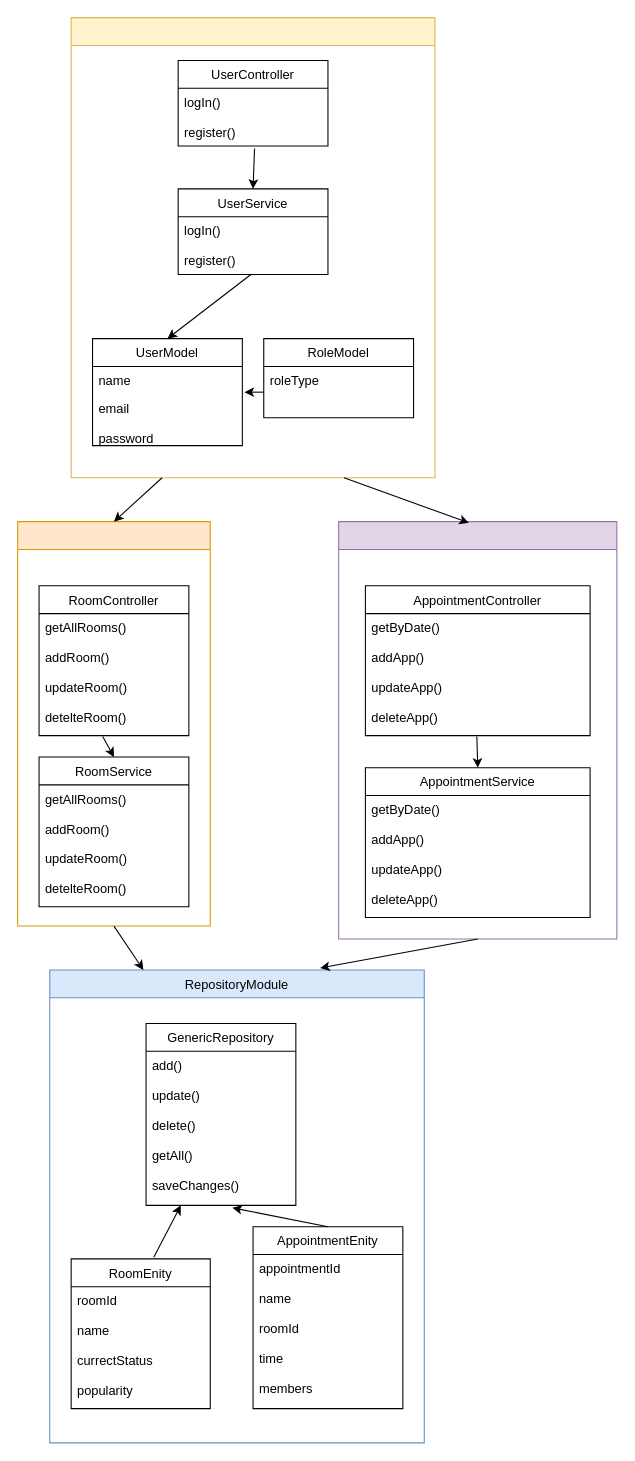
This 635x1461 diagram has some shape labels left out. The shapes that lost their labels are listed below. From the top down, each one's centre as x and y in pixels, then its label:
At (252,247): "UserModule".
At (113,723): "RoomModule".
At (477,730): "AppointmentModule".
